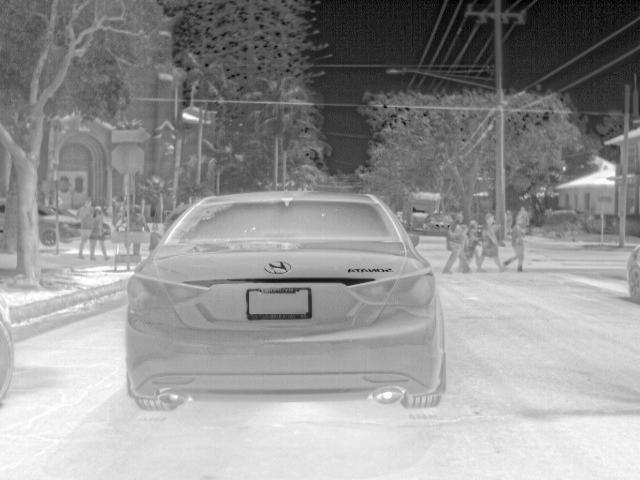car: (124, 177, 449, 414), (1, 289, 15, 403), (38, 202, 58, 248), (626, 245, 640, 302), (423, 211, 456, 235), (61, 212, 80, 243)
person: (444, 218, 475, 274), (475, 213, 503, 271), (88, 204, 112, 262), (76, 198, 98, 258), (502, 216, 526, 270), (128, 206, 150, 232), (149, 223, 164, 251)
